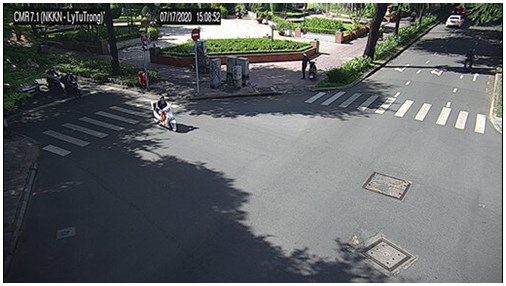xe_hoi: (445, 14, 464, 28)
xe_may: (151, 95, 178, 134), (62, 72, 84, 100), (301, 53, 318, 82), (46, 67, 63, 93), (463, 49, 474, 69)
